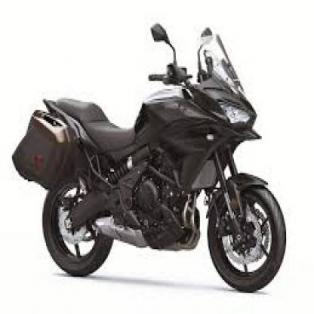Motocicleta: (1, 14, 288, 292)
